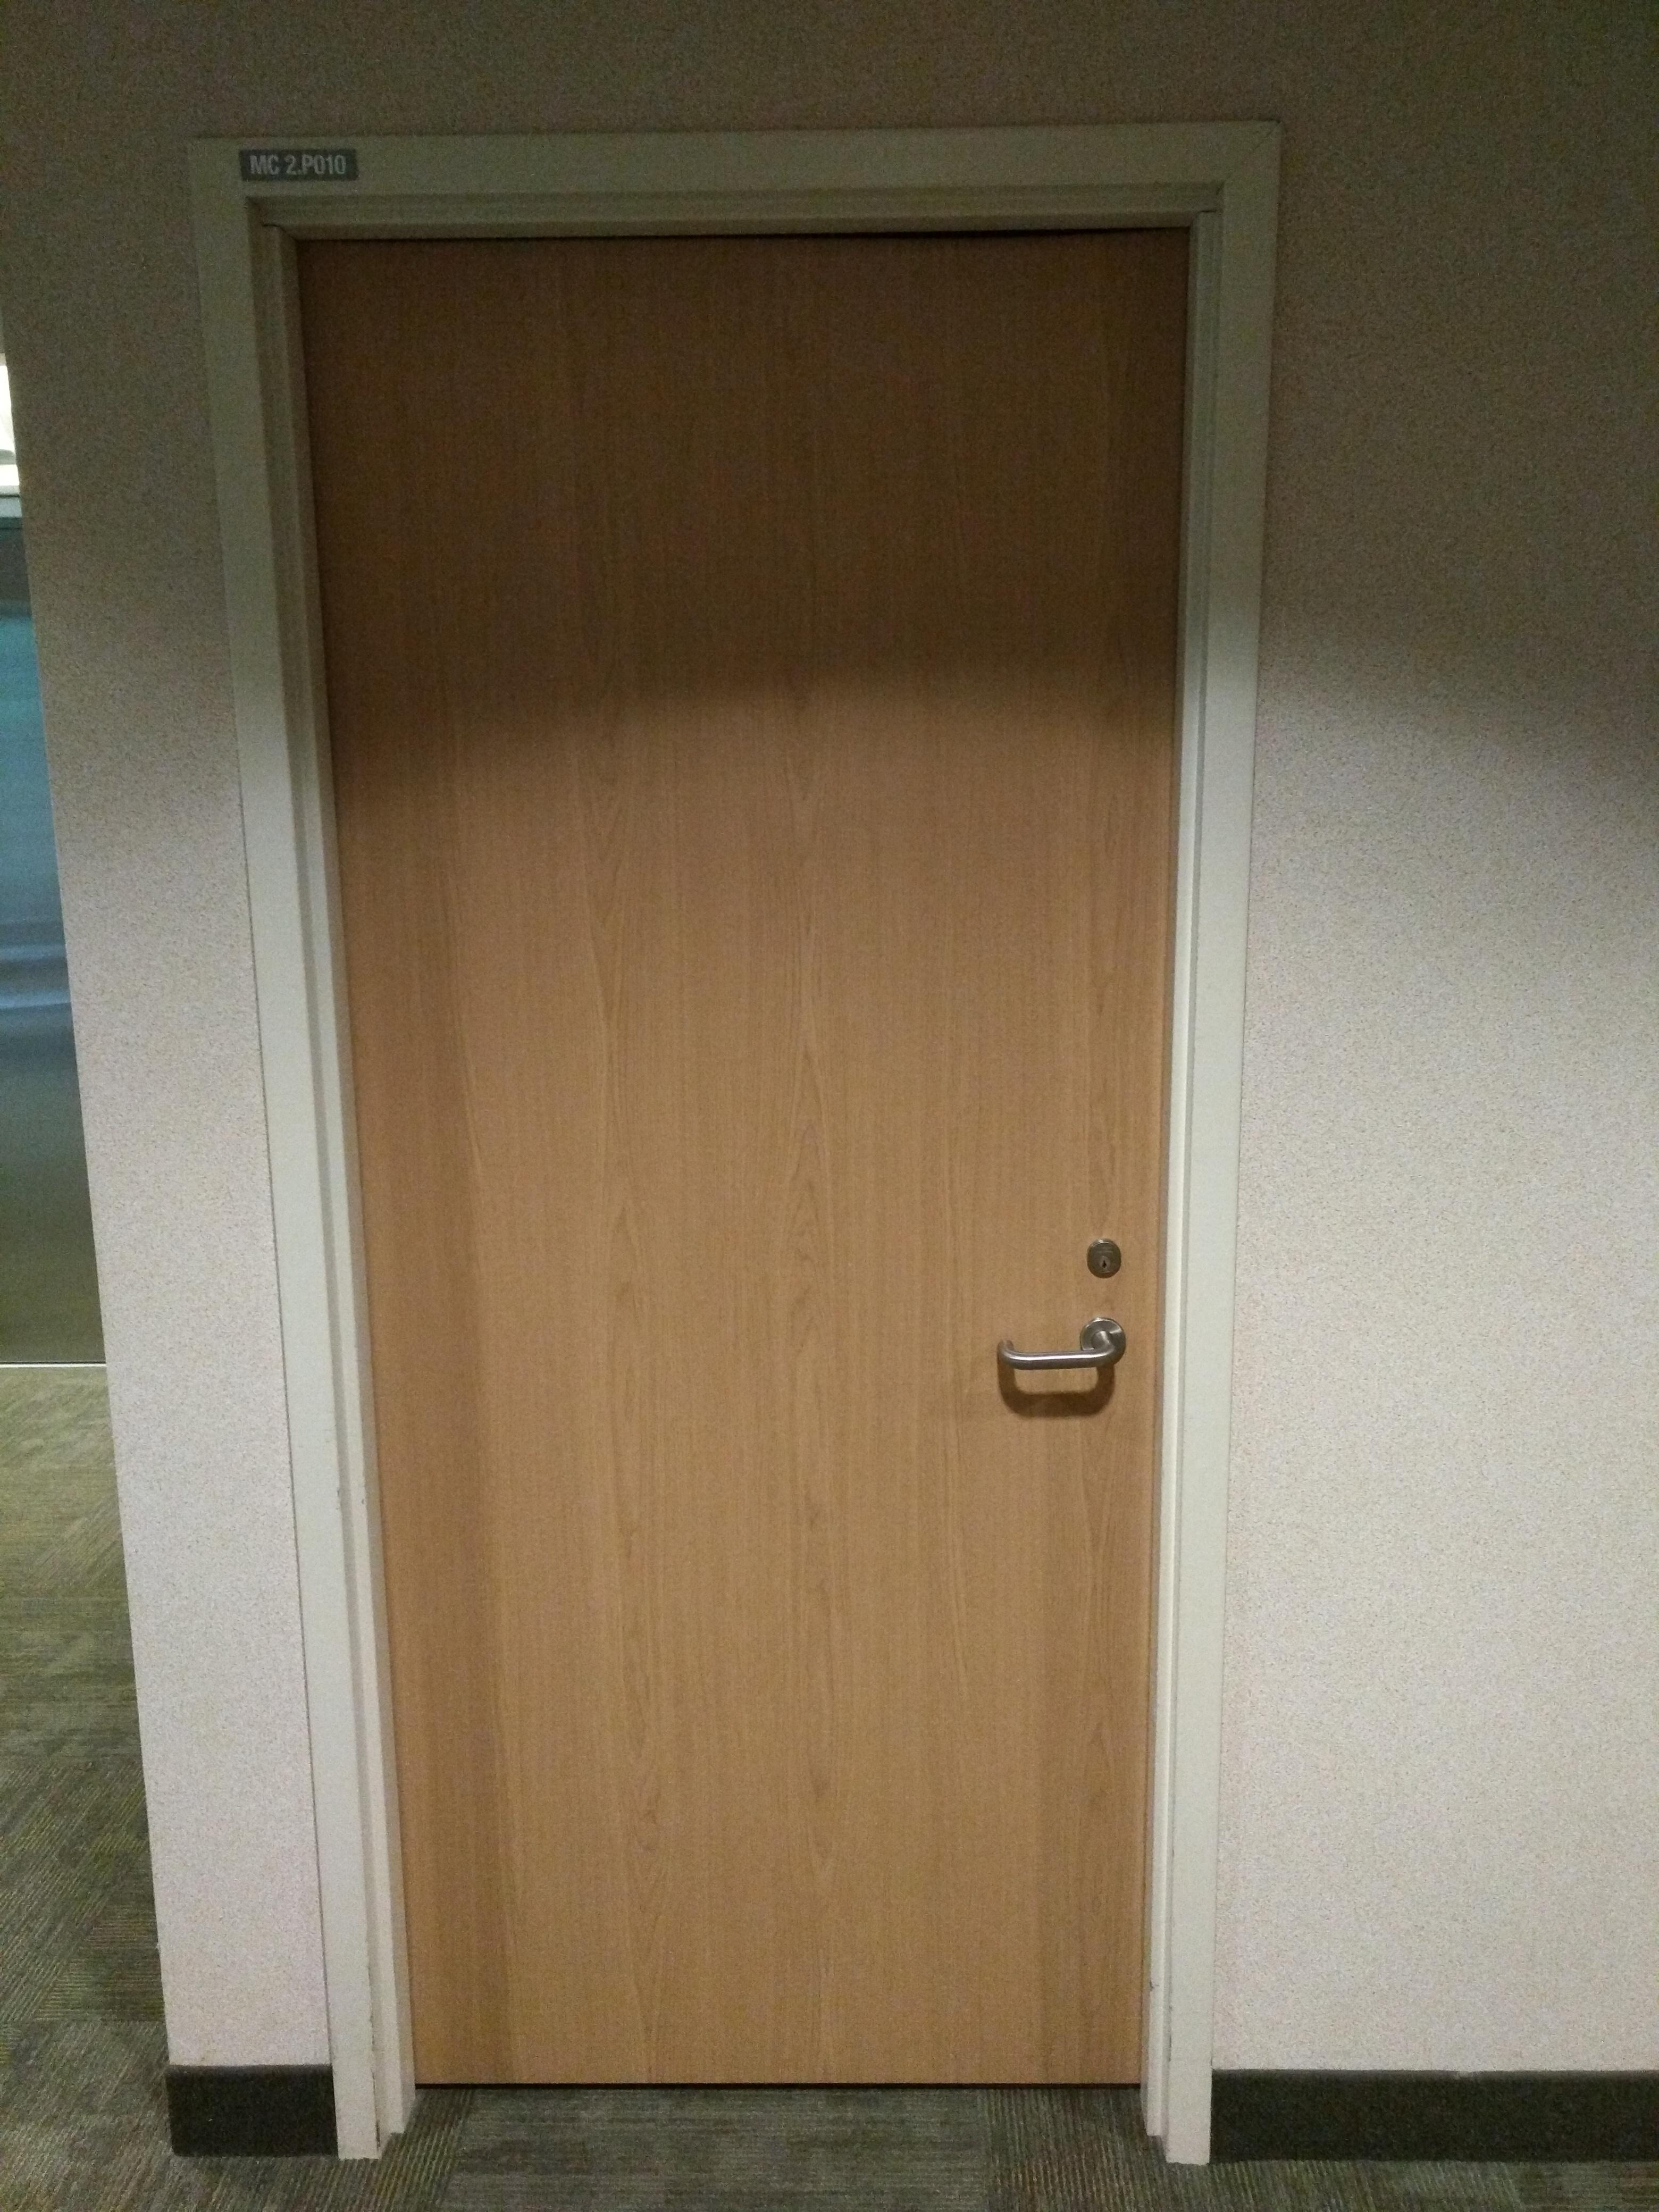door: (242, 195, 1178, 2107)
